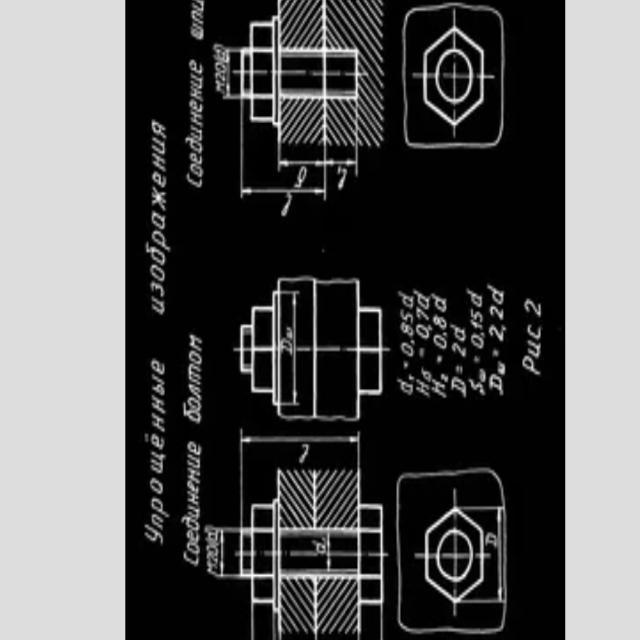numeric: (482, 281, 508, 348), (392, 293, 415, 360), (464, 291, 485, 352), (431, 289, 448, 354), (412, 290, 429, 343), (519, 292, 548, 320), (276, 192, 296, 219), (451, 327, 467, 358), (337, 167, 352, 193), (293, 164, 309, 187), (296, 444, 311, 466)
